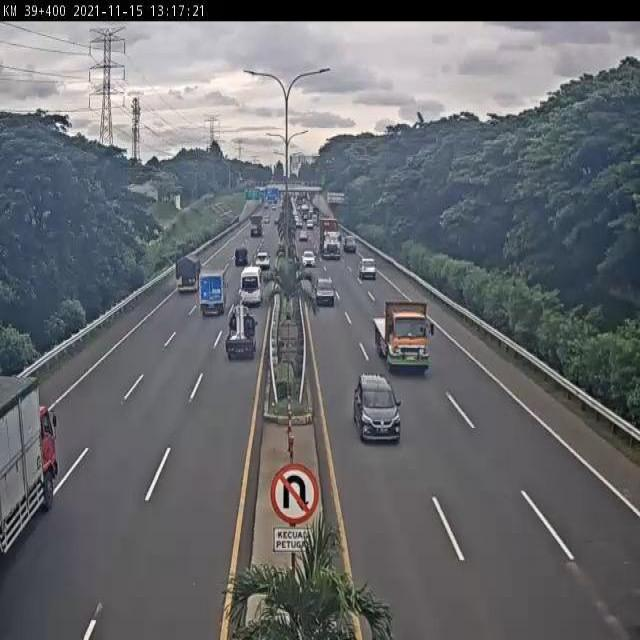big truck: (371, 295, 433, 373)
bus-s-: (238, 266, 265, 310)
car: (351, 373, 404, 444), (314, 275, 337, 308), (357, 255, 378, 282), (253, 249, 271, 272), (233, 244, 250, 267), (300, 248, 317, 267)
truck-m-: (0, 372, 59, 560)
truck-s-: (225, 308, 257, 361), (197, 268, 229, 320), (172, 252, 201, 296)
